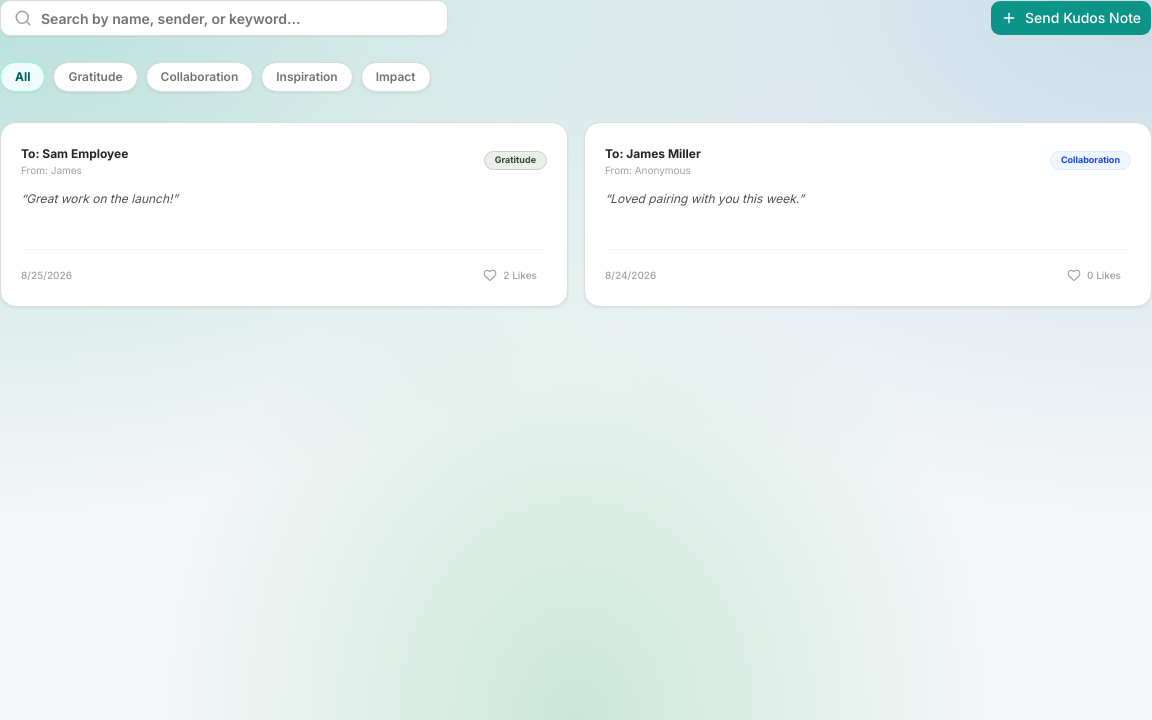
Scenario: KudosFeed › opens the composer when Send Kudos Note is clicked
Check: the text "“Great work on the launch!”" is shown, box [21,191,178,206]
Click the button "Send Kudos Note".
click(1071, 18)  # box [990,0,1151,36]
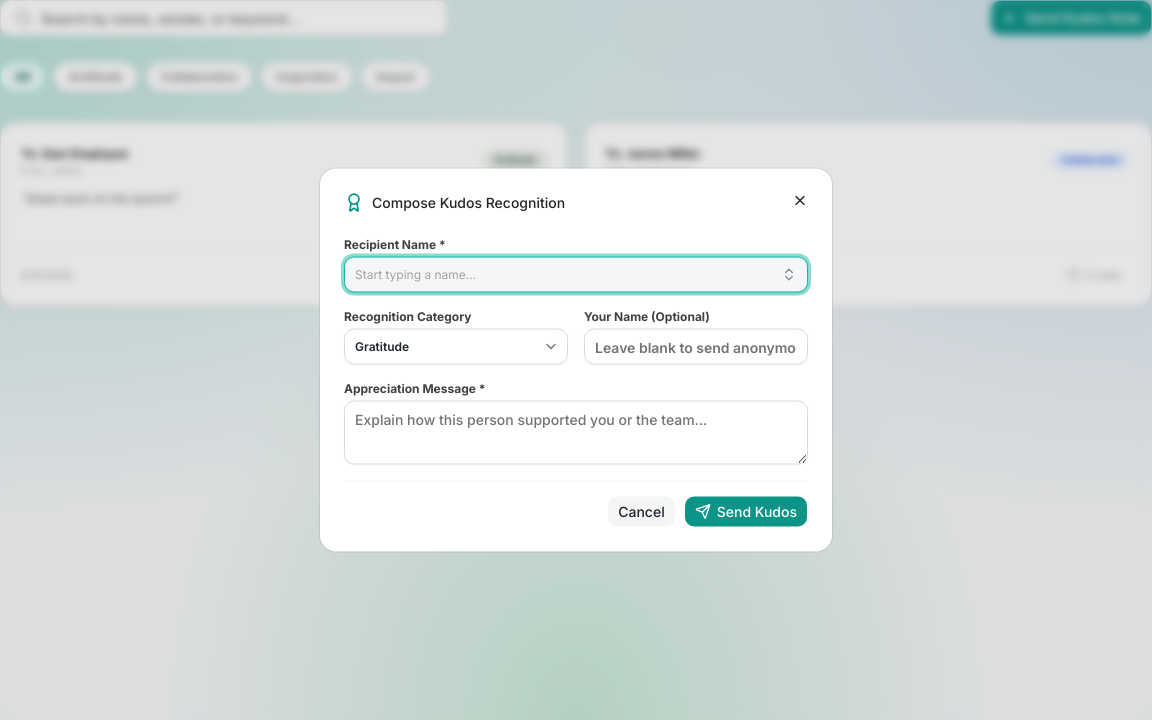
Check: the dialog is shown, box [320,168,832,552]
Check: the heading "Compose Kudos Recognition" is shown, box [372,196,565,210]
